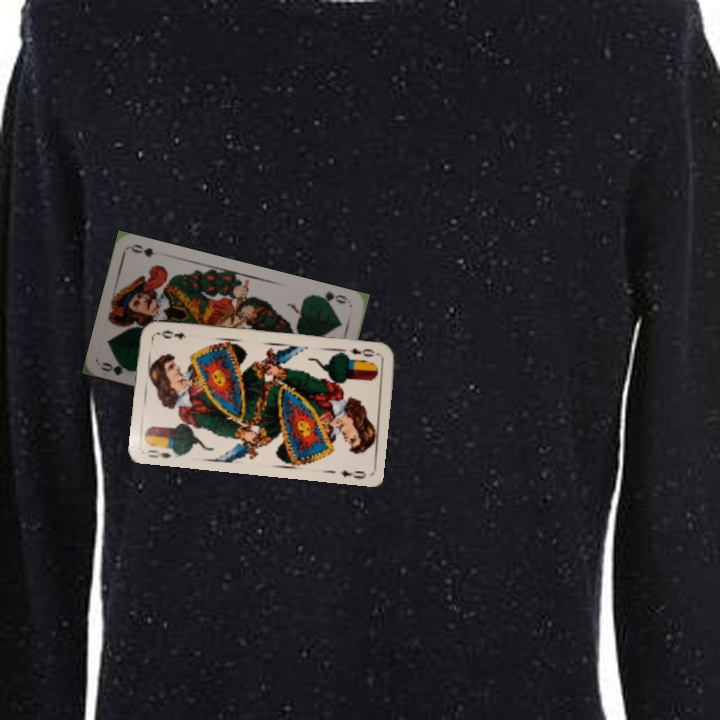EO: (345, 344, 381, 359), (144, 445, 174, 461)
GO: (98, 357, 139, 378), (311, 287, 352, 307)
